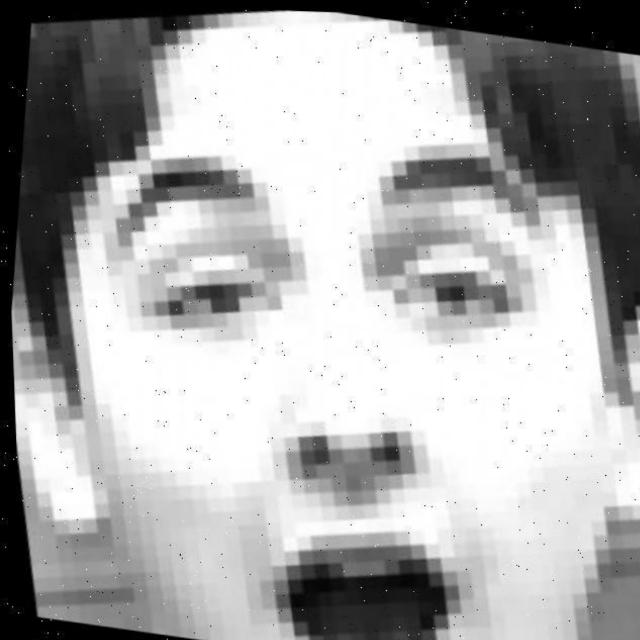Surprised: (6, 77, 640, 640)
